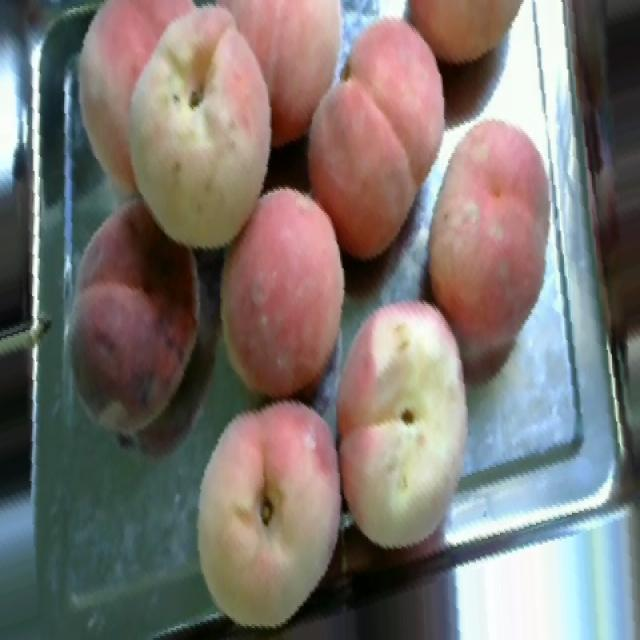Fruit: (59, 0, 281, 268), (157, 377, 345, 640), (404, 104, 580, 384), (286, 0, 462, 276), (48, 187, 224, 463), (340, 278, 497, 568), (200, 171, 368, 419), (391, 0, 549, 76)
